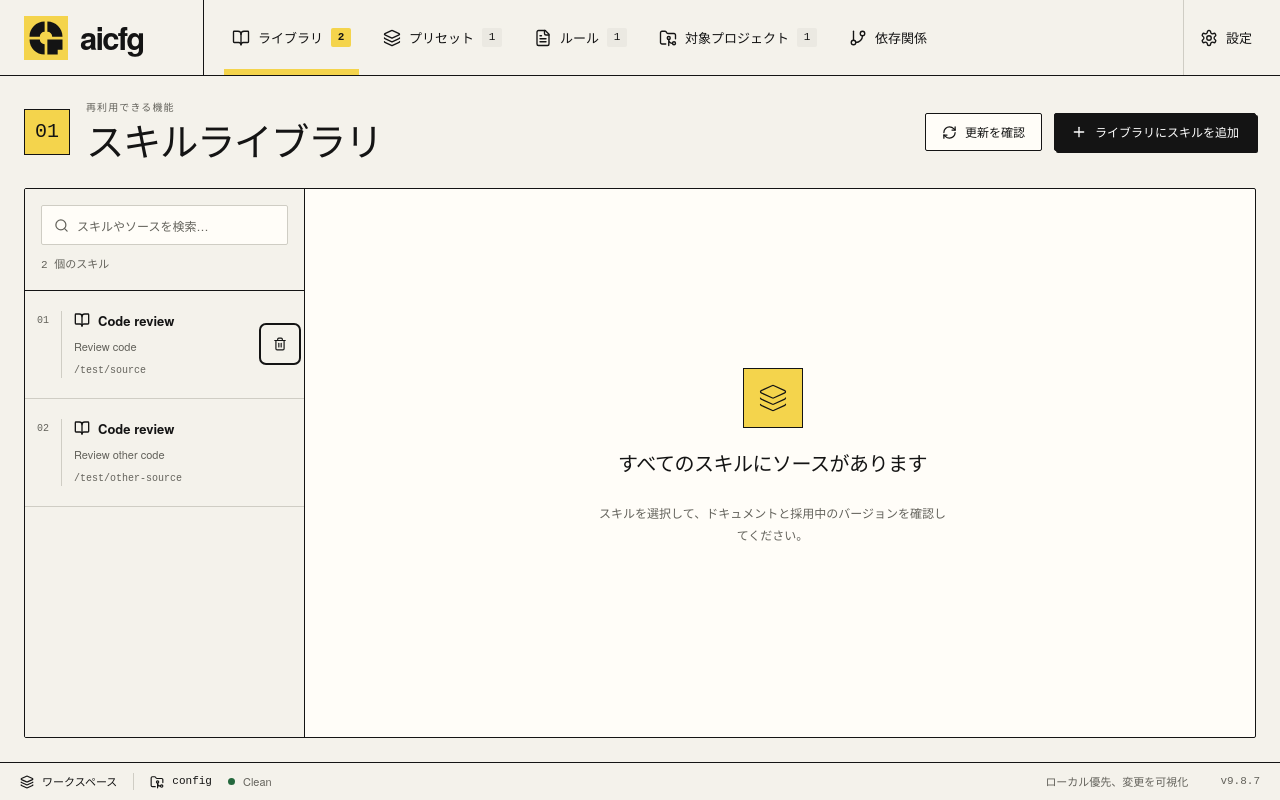
Localized deletion confirmations (ja) › translates a failed deletion inside the confirmation
Step 1. Click the button named "Code review を削除" → (280, 344), box [264,328,296,360]
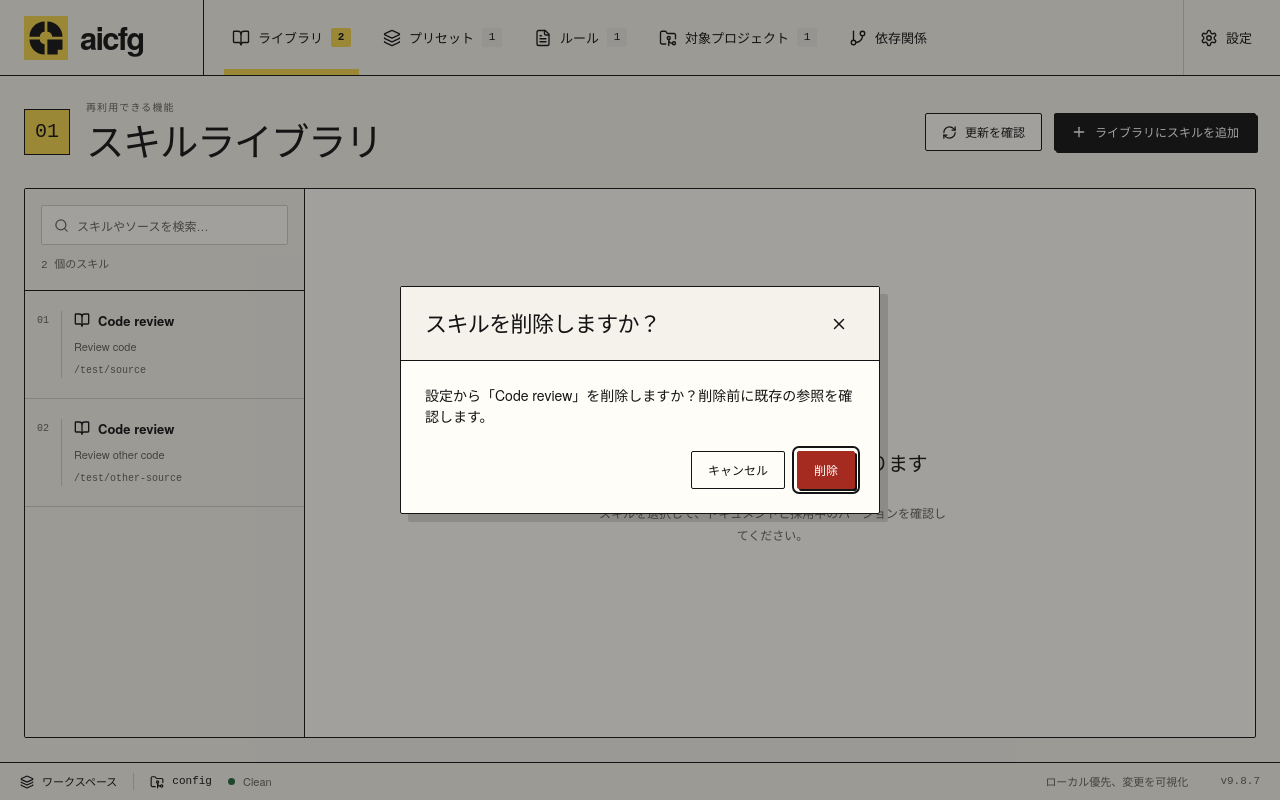
Step 2. Click the button "削除" → (826, 470), box [797,451,855,489]
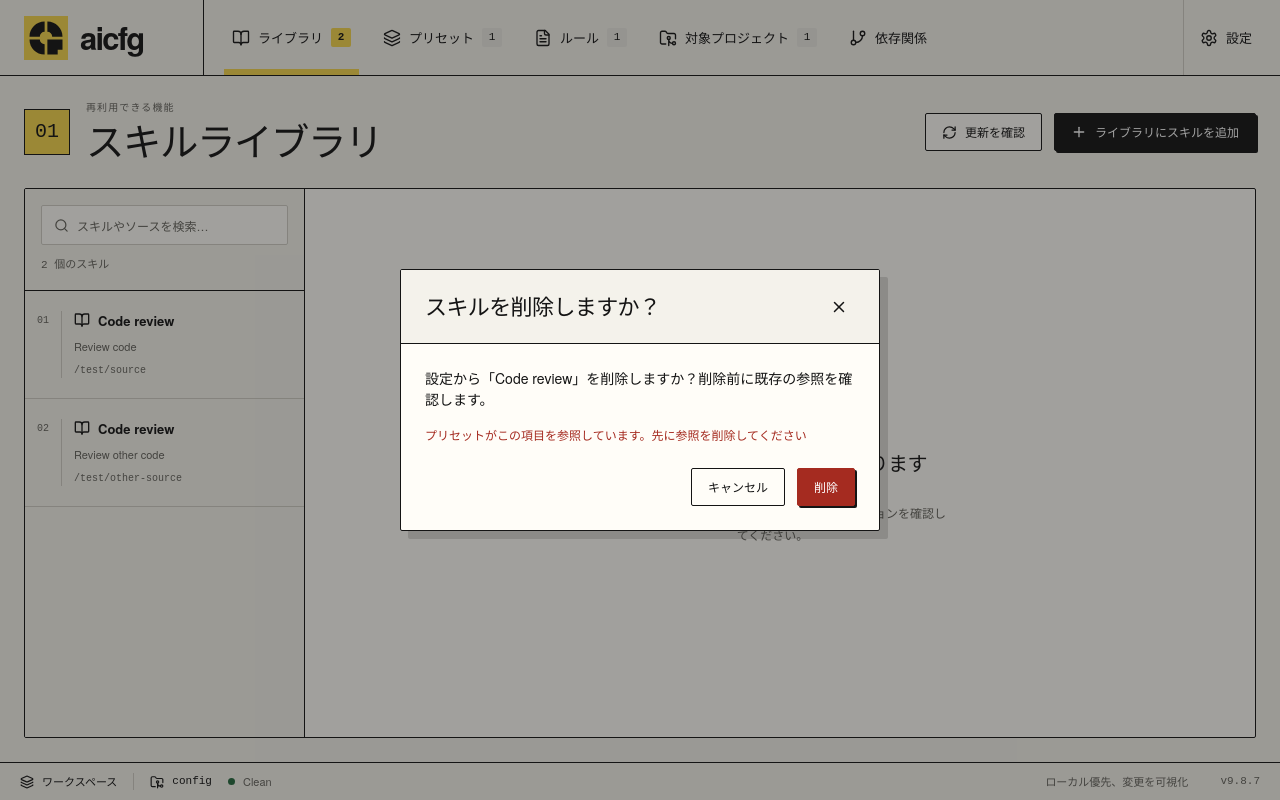
Check: the button "キャンセル" is enabled, box [691,468,785,506]
Check: the message "プリセットがこの項目を参照しています。先に参照を削除してください" is shown, box [425,426,855,444]
